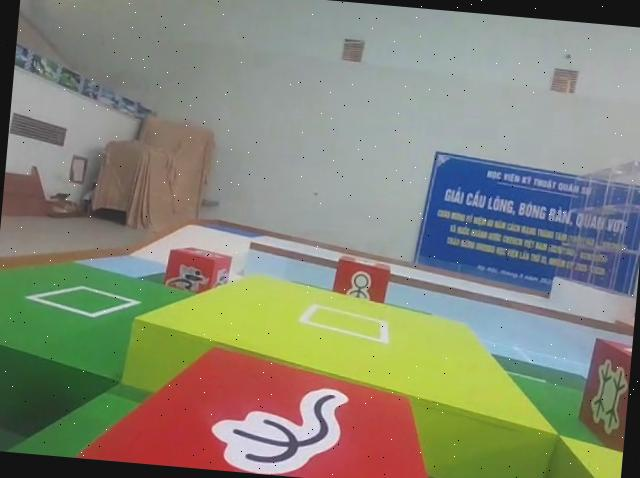R1: (160, 241, 236, 302)
R2 Real: (78, 332, 445, 478), (574, 337, 633, 458)
